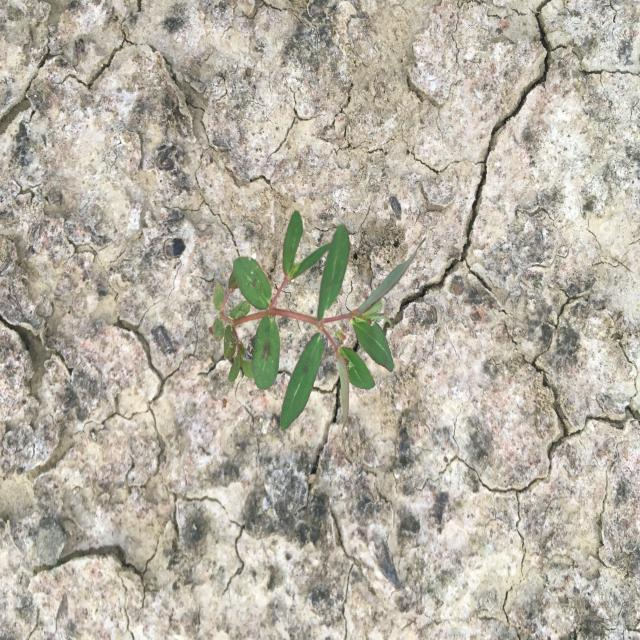Purslane: (210, 208, 429, 434)
